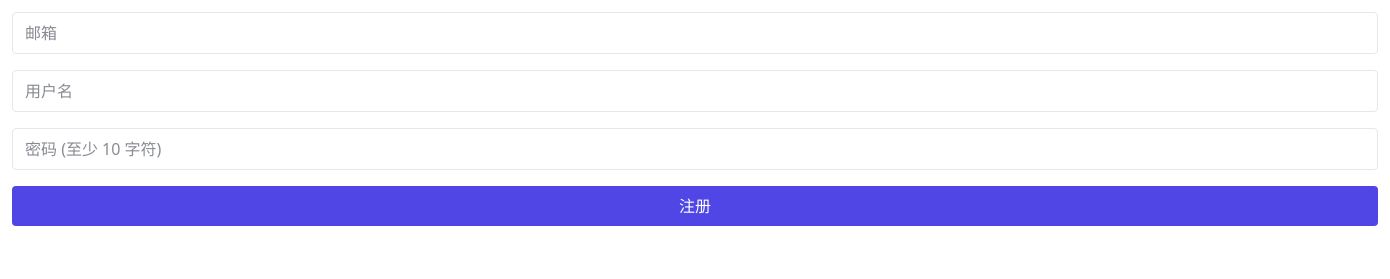
Test case: RegisterForm › shows error on register failure
The image size is (1390, 279).
Type "a@b.com" into the field with placeholder "邮箱" at (695, 33), box [12,12,1378,54]
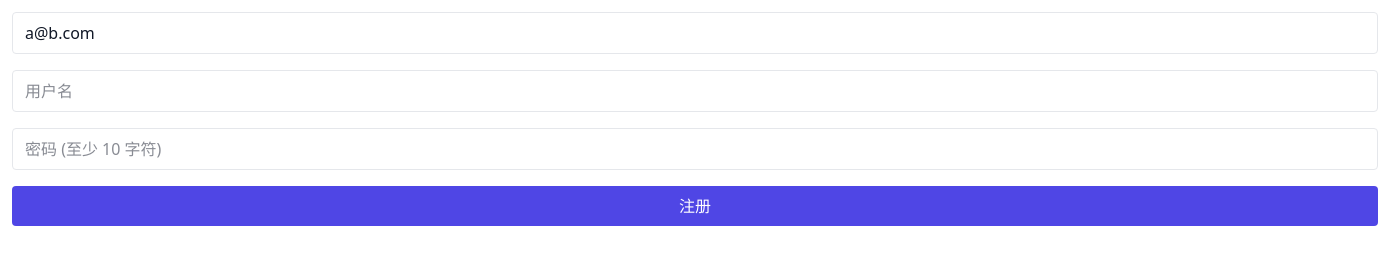
Type "user1" into the field with placeholder "用户名" at (695, 91), box [12,70,1378,112]
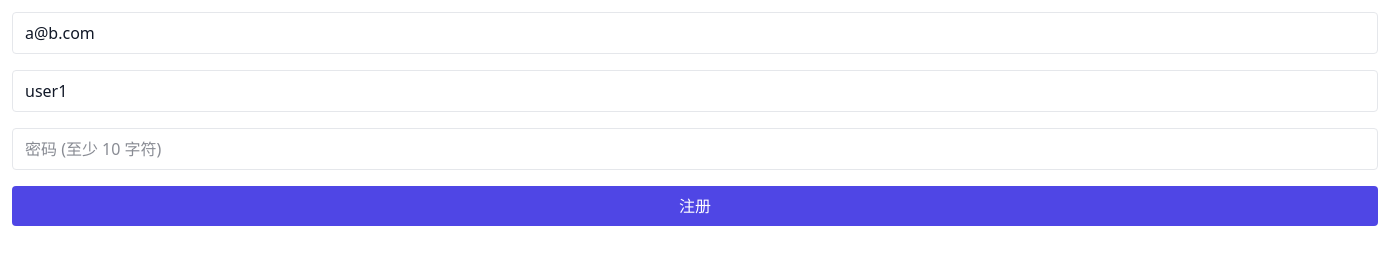
Type "Password123!" into the password field with placeholder "密码 (至少 10 字符)" at (695, 149), box [12,128,1378,170]
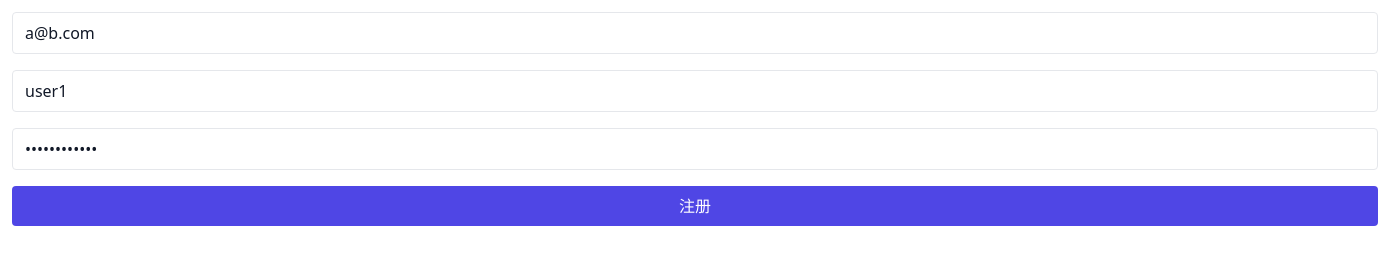
Click the button "注册" at (695, 206), box [12,186,1378,226]
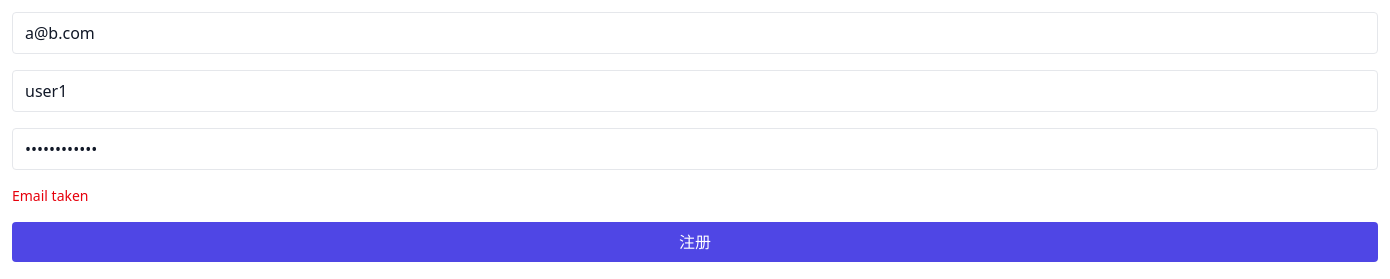
Now the text "Email taken" is shown, box [12,186,88,205]
